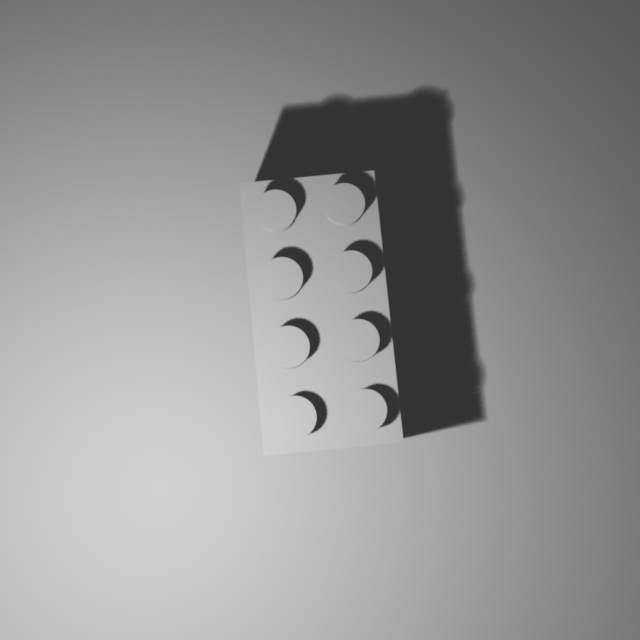lego_2x4: (238, 167, 405, 457)
